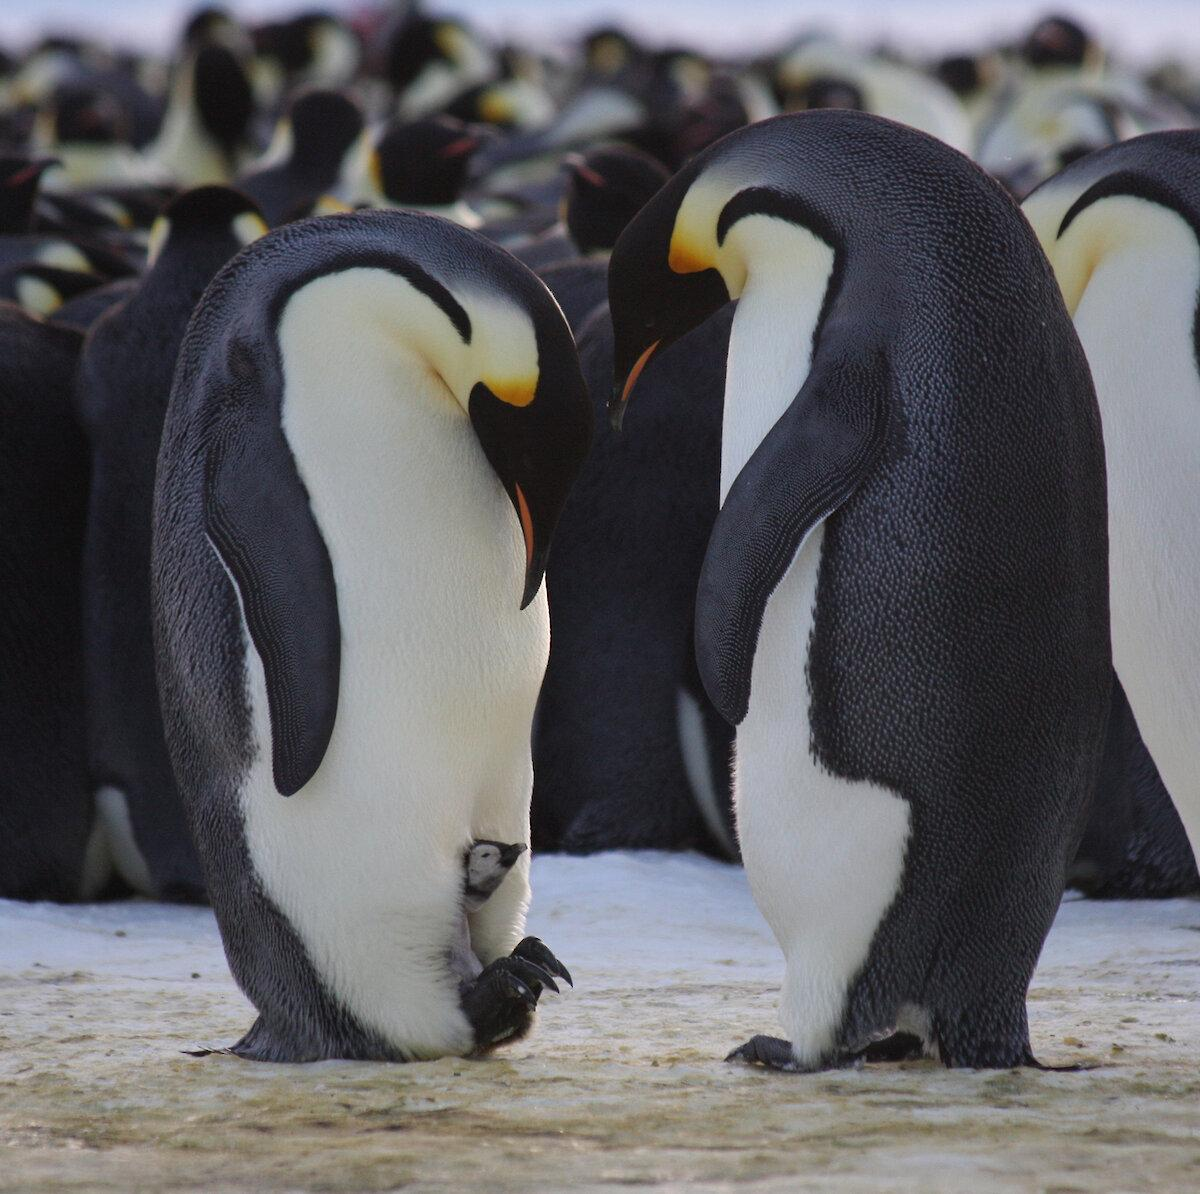emporer: (566, 85, 1170, 1073), (118, 177, 619, 1112)
